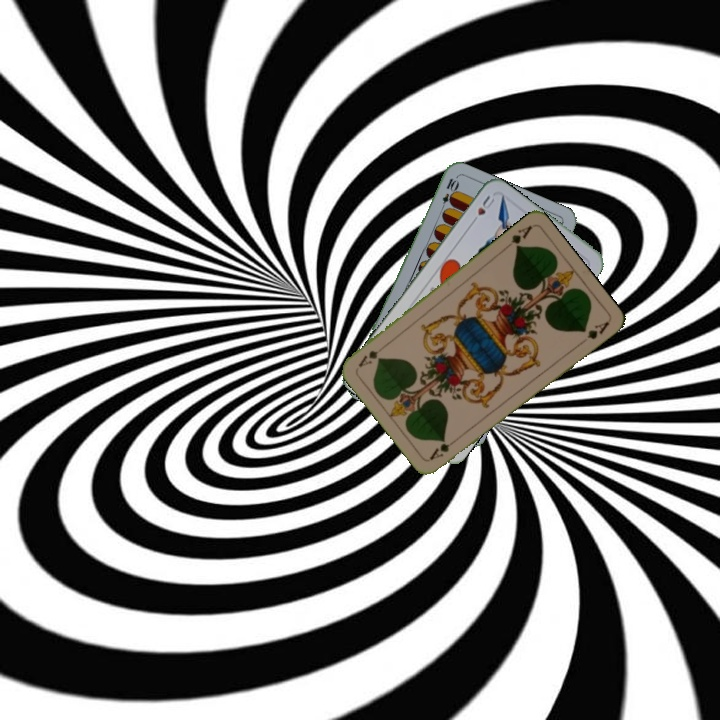E10: (437, 174, 460, 214)
GA: (500, 221, 535, 252), (426, 433, 461, 463)
HU: (467, 191, 497, 227)
